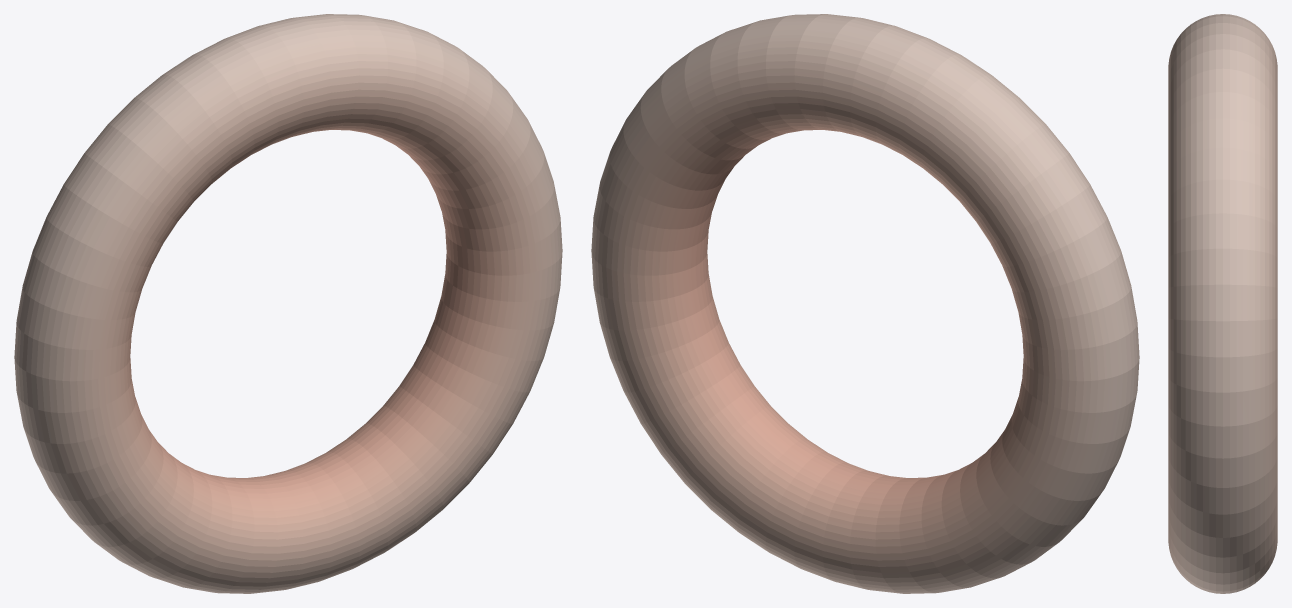
The picture shows the model from 3 angles, left to right: view 1: azimuth 30°, elevation 25°; view 2: azimuth 150°, elevation 25°; view 3: azimuth 270°, elevation 25°; orthographic projection. The views are drawn at different scales.
Parts seen in each view (by area): view 1: world; view 2: world; view 3: world.
Part boxes in pixels (x1,y1,x2,y2): world: (14,14,562,593); world: (591,14,1139,593); world: (1168,14,1277,593).
Size of the model in its own units: 30.4 by 30.34 by 5.72.
